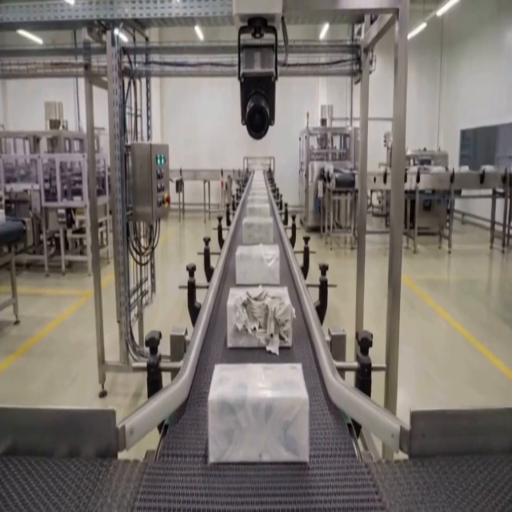defective: (226, 285, 295, 349)
good: (208, 363, 309, 466), (234, 244, 281, 286), (241, 215, 274, 246), (245, 199, 270, 221), (247, 180, 270, 201), (248, 171, 268, 188)
